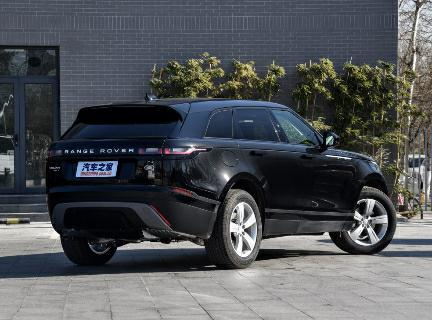路虎-揽胜星脉: (38, 97, 404, 271)
